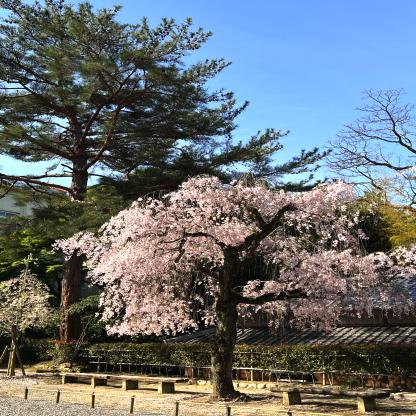ShidareZakura: (50, 174, 415, 338)
